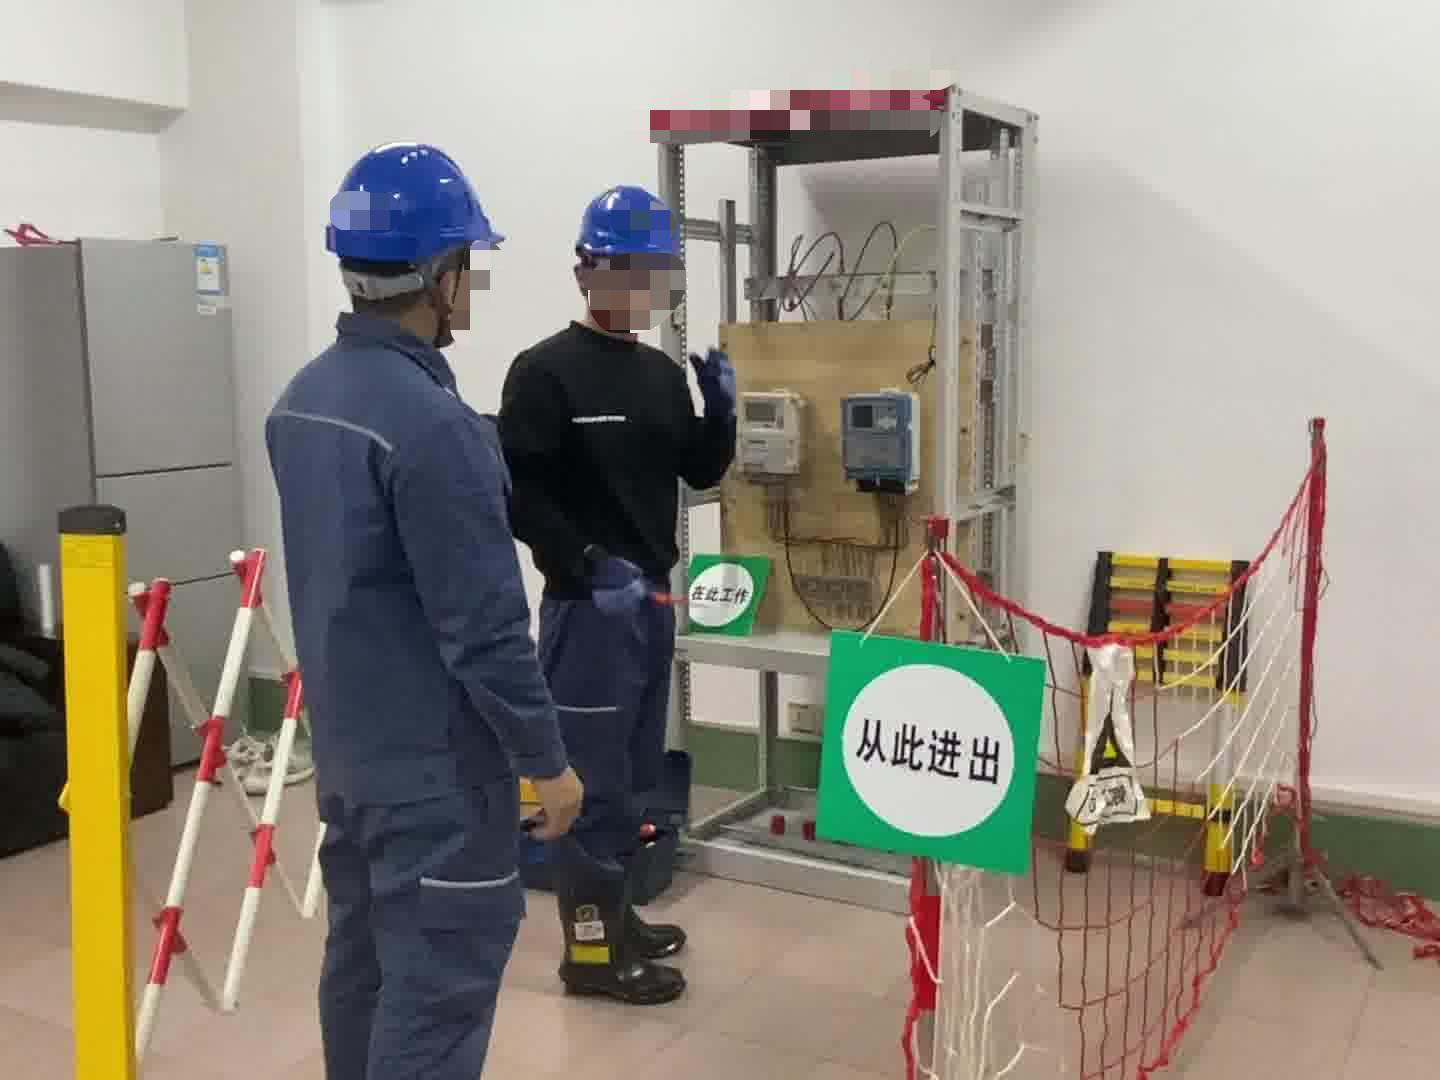halt: (324, 143, 508, 344), (571, 184, 691, 341)
inear: (422, 255, 471, 329)
